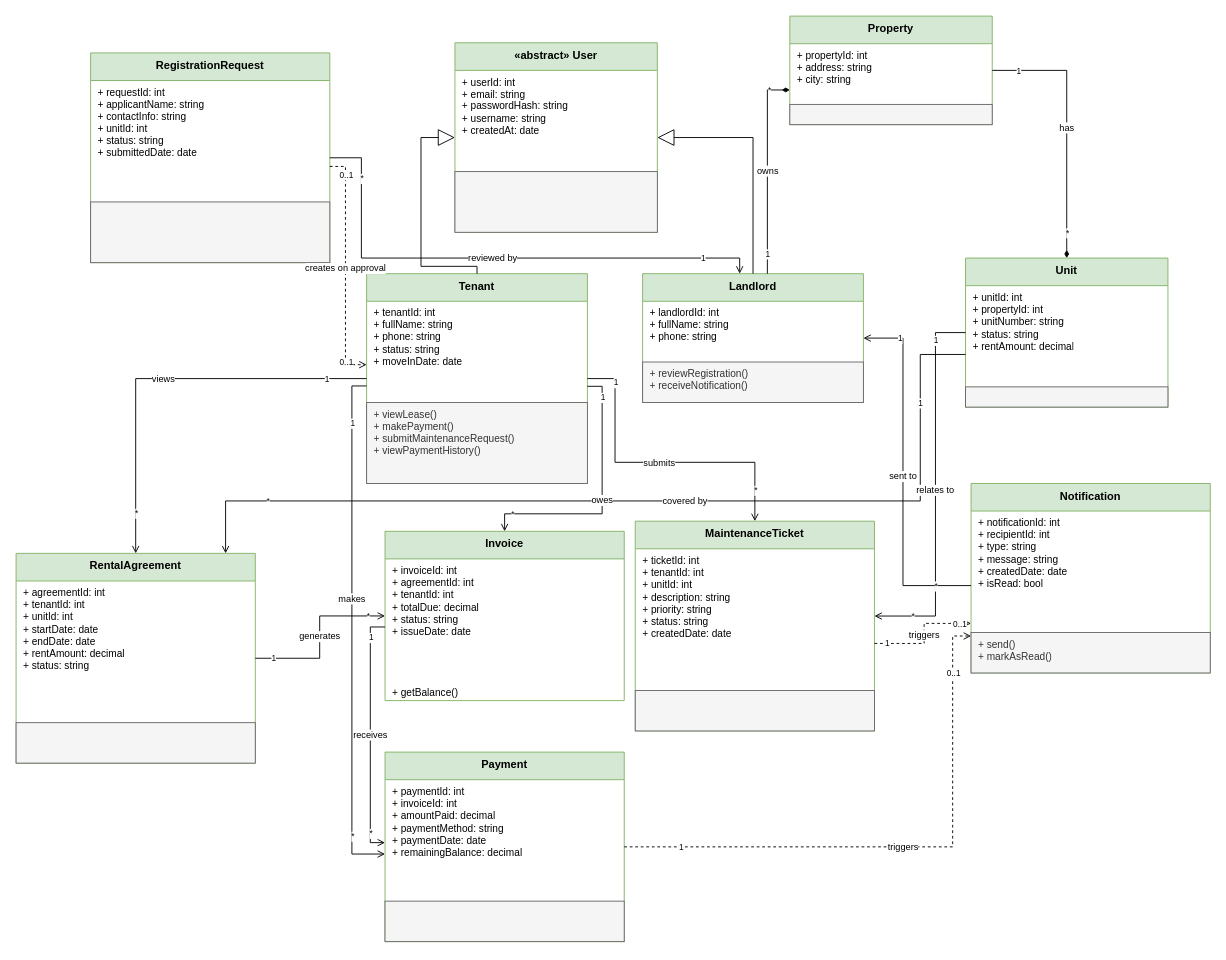
This 1226x960 diagram has some shape labels left out. Each missing label, with the centre of its shape:
"+ getStatus()" belongs at (x=1066, y=396).
"+ getUnits()" belongs at (x=890, y=114).
"+ login() + logout() + updateProfile()" belongs at (x=555, y=201).
"+ makePayment() + generateReceipt()" belongs at (x=504, y=921).
"+ submit() + approve() + reject()" belongs at (x=210, y=232).
"+ submitTicket() + viewStatus()" belongs at (x=754, y=710).
"+ viewDetails() + download()" belongs at (x=135, y=742).
